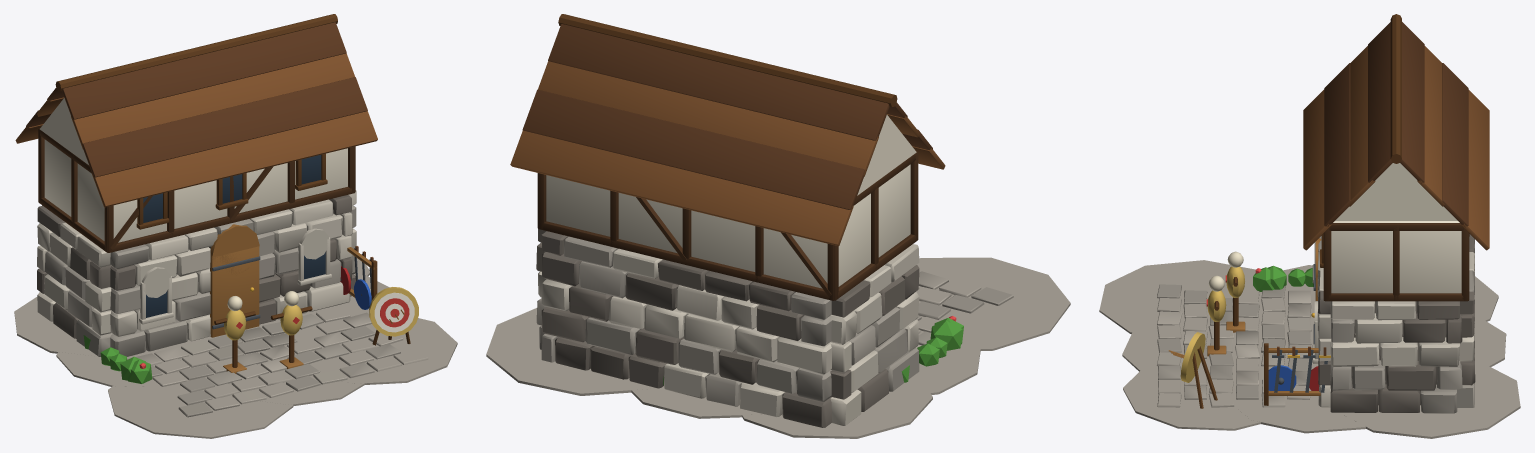
The model's file is koszary_poz11.glb.
3 renders of one model, left to right at view 1: azimuth 30°, elevation 25°; view 2: azimuth 150°, elevation 25°; view 3: azimuth 270°, elevation 25°, orthographic. The views are drawn at different scales.
Parts seen in each view (by area): view 1: koszary_poz11; view 2: koszary_poz11; view 3: koszary_poz11.
Part boxes in pixels (bbox=[...]): koszary_poz11: bbox=[14, 14, 457, 438]; koszary_poz11: bbox=[486, 14, 1070, 438]; koszary_poz11: bbox=[1099, 14, 1520, 438].
Size of the model in its own units: 8.86 by 6.36 by 8.91.
